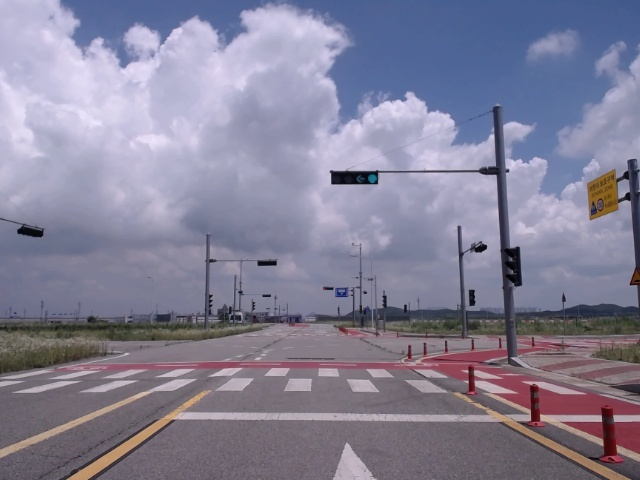all_green_4: (330, 171, 381, 187)
